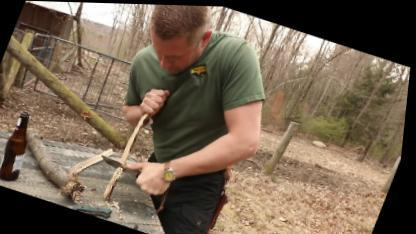knife: (90, 140, 184, 198)
